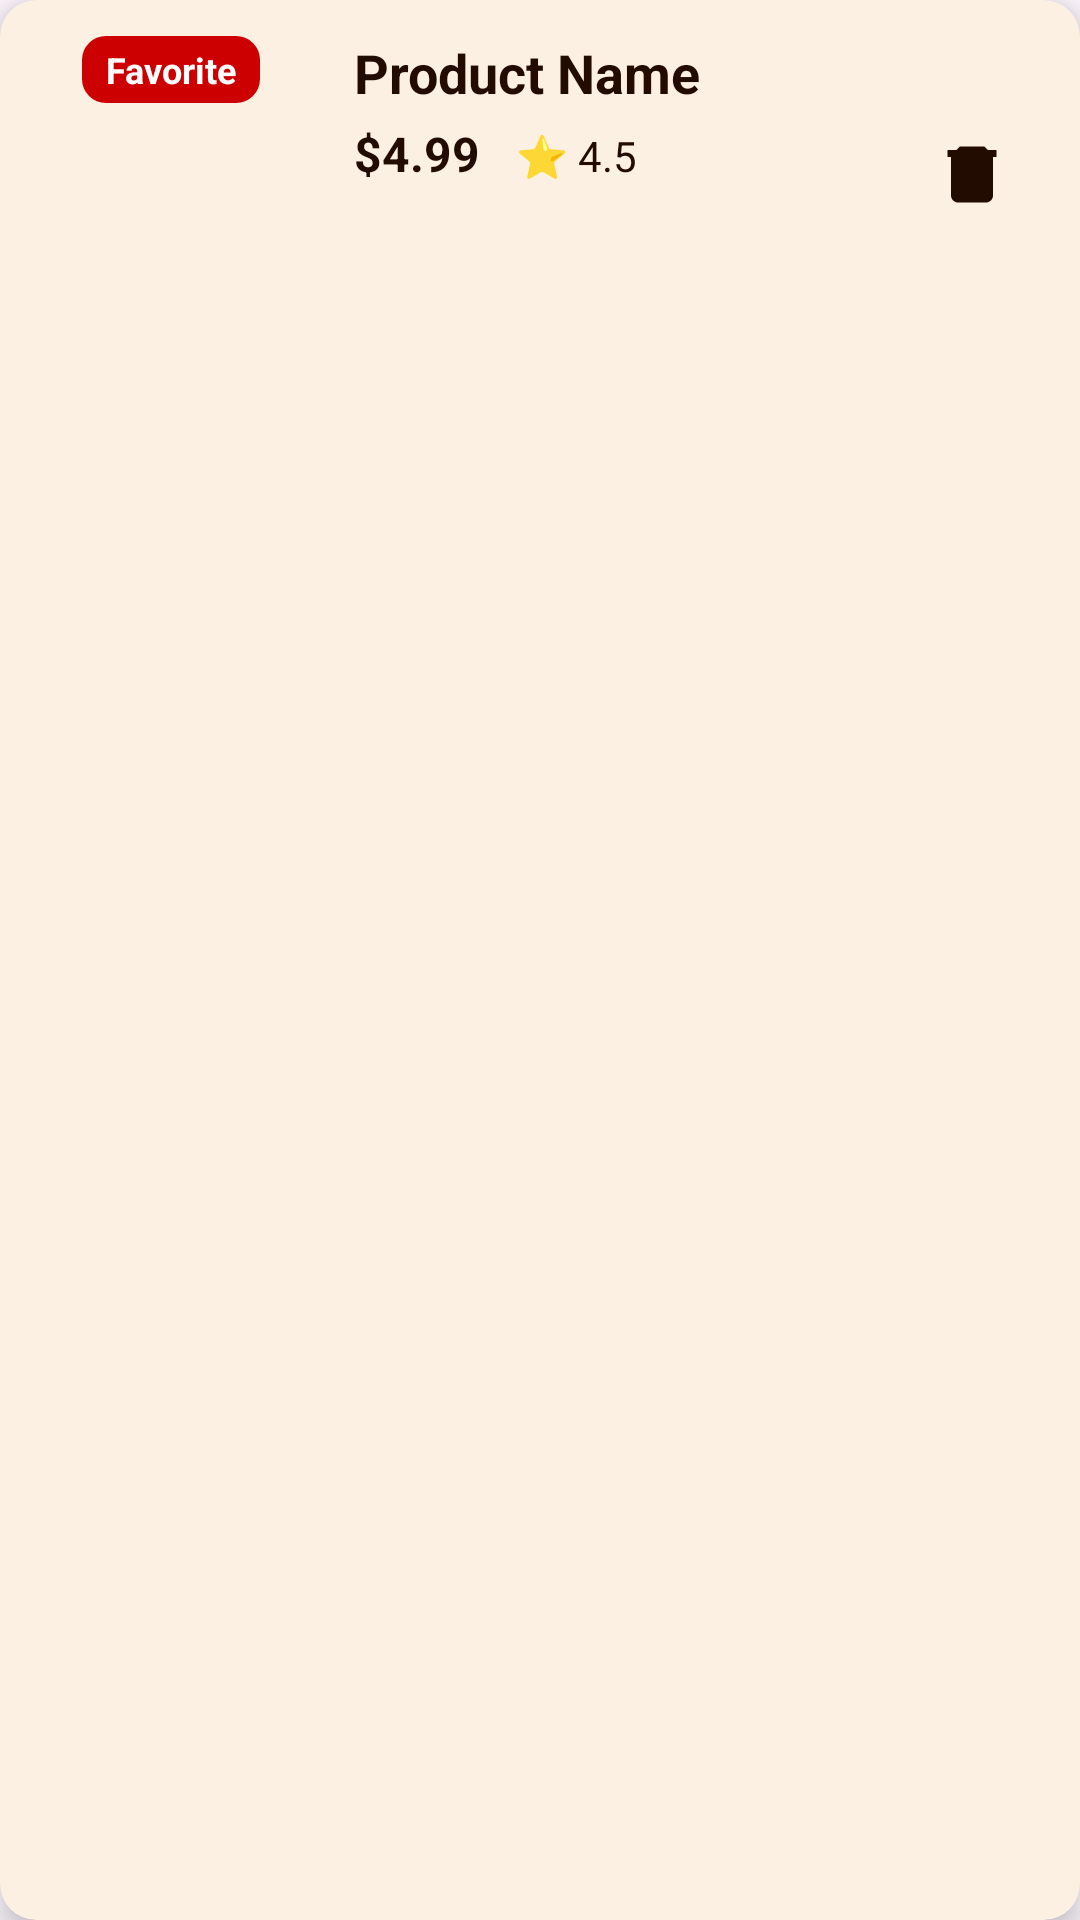

Screen size 1080px x 1920px. Icon name, then its center in pixels as (x,y):
Xóa khỏi yêu thích: (972,174)
